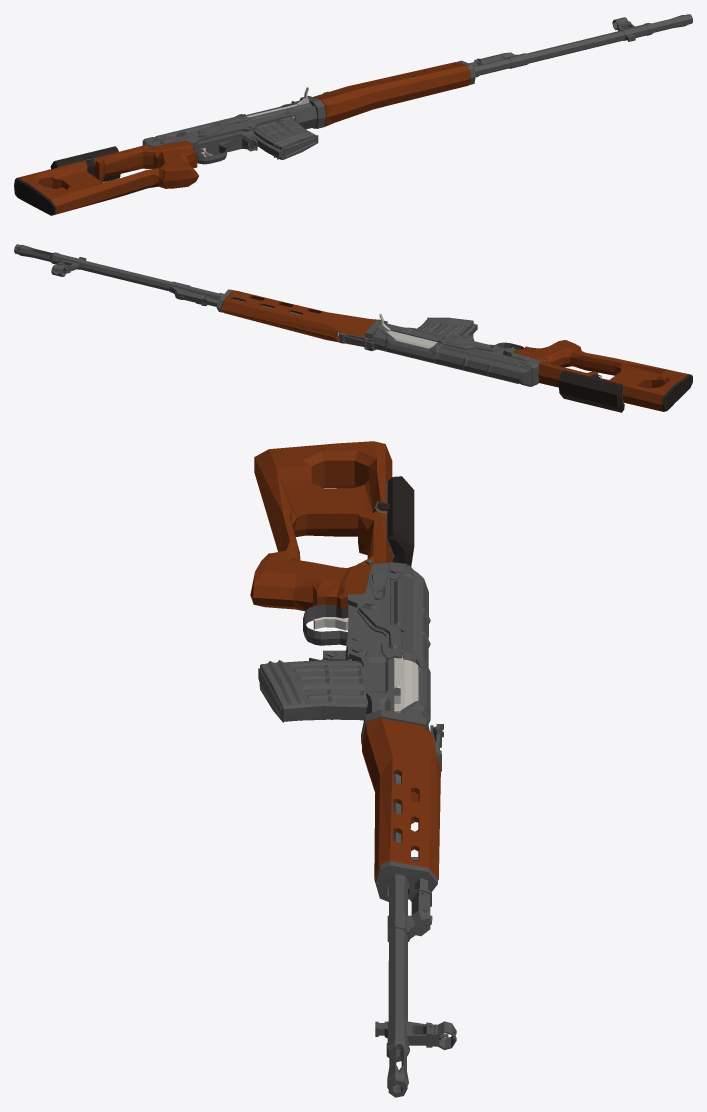
Rendered from low-poly_dragunov_svd.glb.
3 views of the same model, one above another, from view 1: azimuth 30°, elevation 25°; view 2: azimuth 150°, elevation 25°; view 3: azimuth 270°, elevation 25° (orthographic). The views are drawn at different scales.
Visible parts, largest first — view 1: stock_3, receiver_0, handguards_4, magazine_10, cheekpad_16, dustcover_13, safety_5; view 2: stock_3, receiver_0, handguards_4, dustcover_13, cheekpad_16, magazine_10, bolt-carrier_2, safety_5; view 3: stock_3, receiver_0, handguards_4, magazine_10, dustcover_13, cheekpad_16, handguard_retainer_14, safety_5, bolt-carrier_2.
Part boxes in pixels (x1,y1,x2,y2): stock_3: (14,141,198,215); receiver_0: (146,14,692,164); handguards_4: (313,62,470,126); magazine_10: (253,117,318,159); cheekpad_16: (50,146,120,182); dustcover_13: (142,102,298,145); safety_5: (197,114,251,137); stock_3: (513,340,692,411); receiver_0: (14,244,545,364); handguards_4: (220,290,378,346); dustcover_13: (372,328,538,386); cheekpad_16: (558,370,624,412); magazine_10: (417,317,477,335); bolt-carrier_2: (379,313,437,348); safety_5: (437,338,500,351); stock_3: (250,441,392,611); receiver_0: (303,559,456,1097); handguards_4: (362,717,440,889); magazine_10: (258,660,367,722); dustcover_13: (389,562,430,724); cheekpad_16: (372,476,414,566); handguard_retainer_14: (375,861,437,901); safety_5: (357,601,402,659); bolt-carrier_2: (394,654,418,712).
Size of the model in its own units: 1.22 by 0.0746 by 0.1692.
